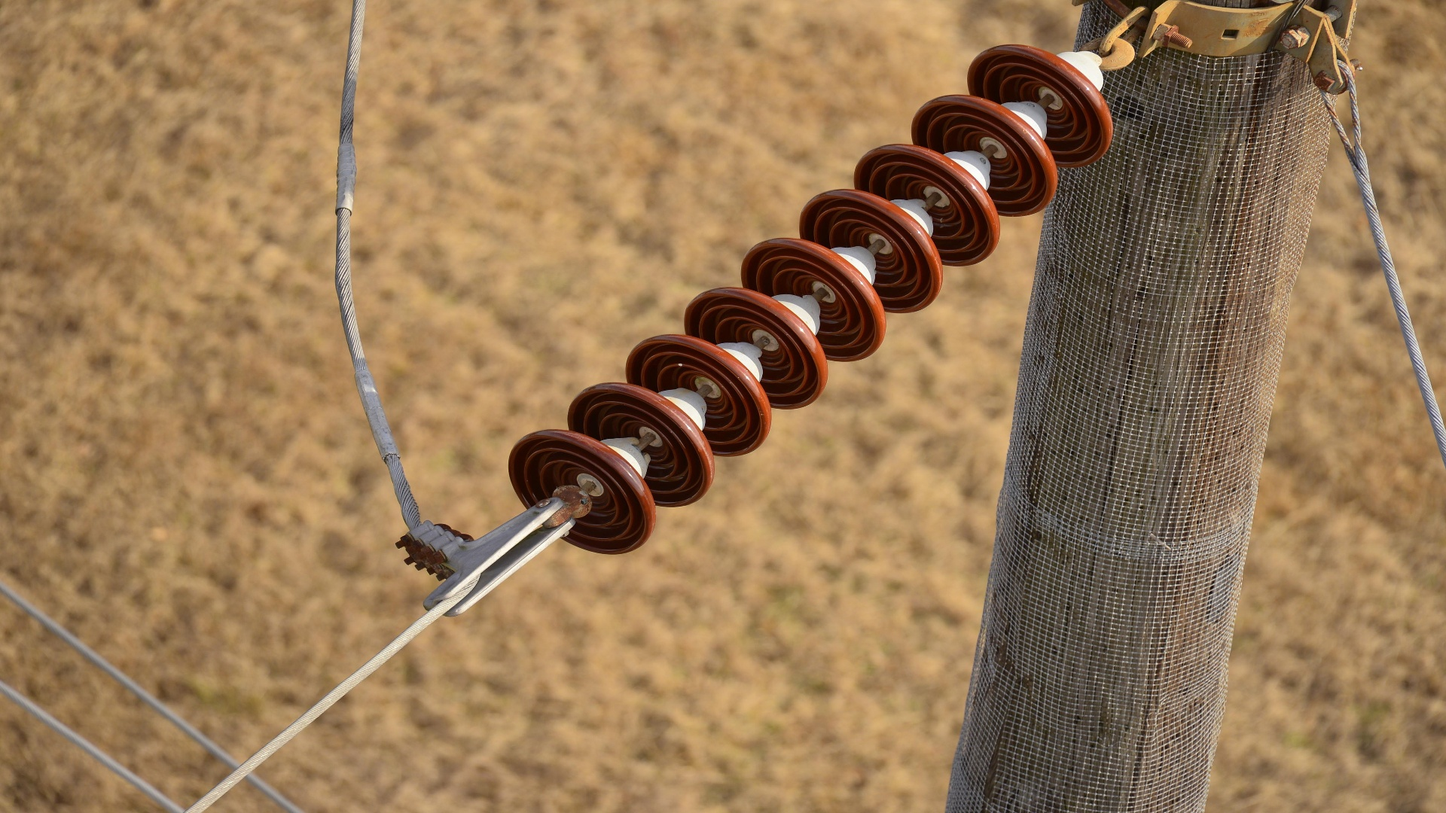insulator: (503, 38, 1121, 567)
